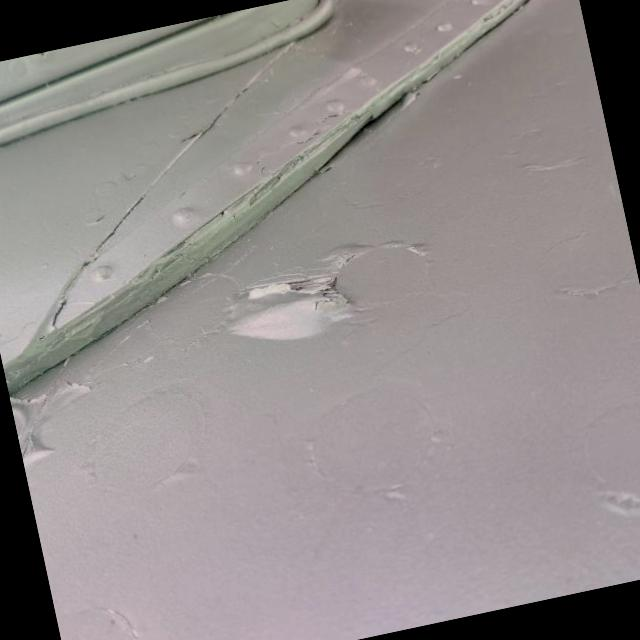paint-off: (233, 240, 379, 336)
